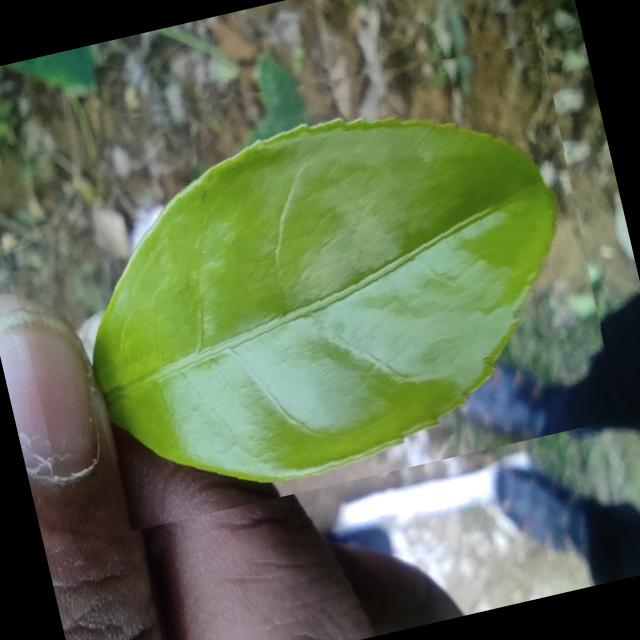Category C(4-7 days): (0, 13, 628, 544)
